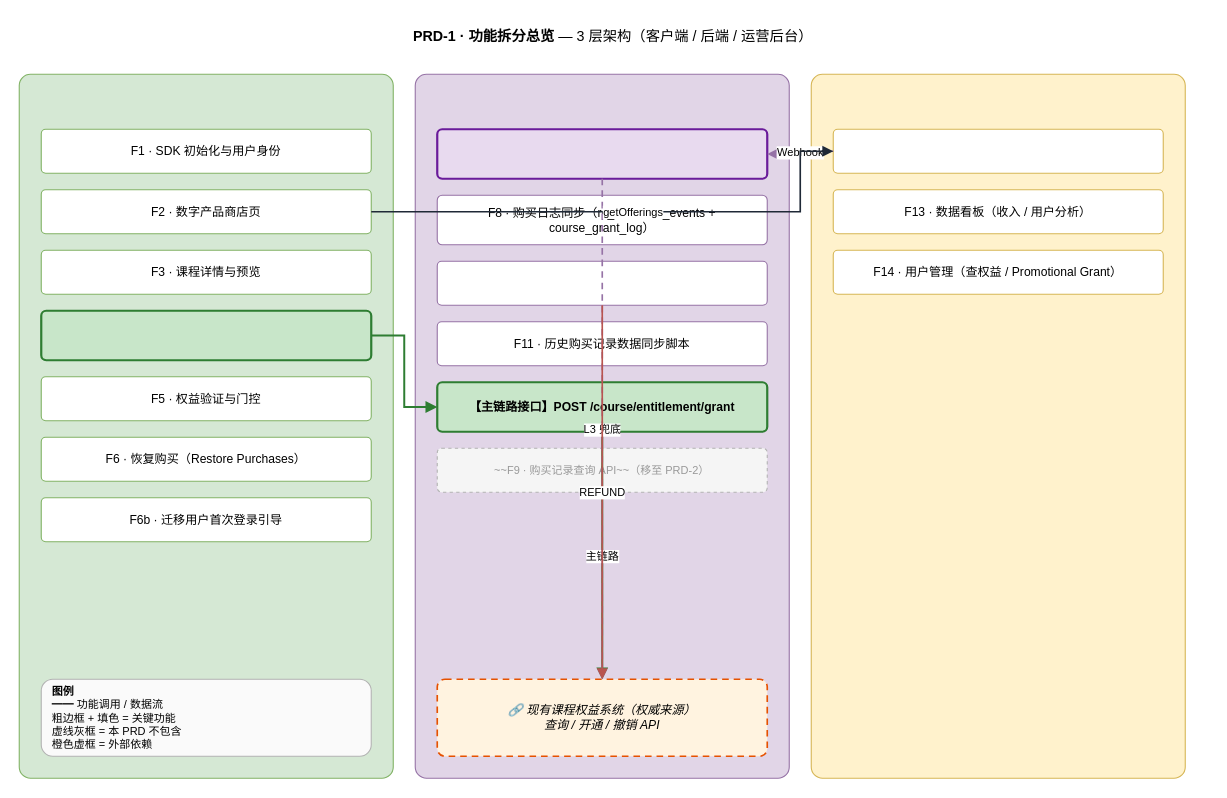
The diagram is 1227 pixels wide and 798 high, and some of its shapes have lost their labels. Here are the shapes that lost their labels. From the top down, the box of each, then its label:
(436, 128, 768, 179): F7 · Webhook 接收与幂等处理
(832, 128, 1163, 173): F12 · 产品配置（Offering / Package）
(436, 260, 767, 305): F10 · 退款联动（REFUND → 撤销权限）
(40, 309, 372, 361): F4 · 一次性购买流程（含 F4a 异常兜底）
(18, 73, 393, 778): 🖥️ 客户端 App（iOS / Android / RN）
(414, 73, 789, 778): ⚙️ 后端 Java
(810, 73, 1185, 778): 📊 RevenueCat Dashboard（运营后台）
